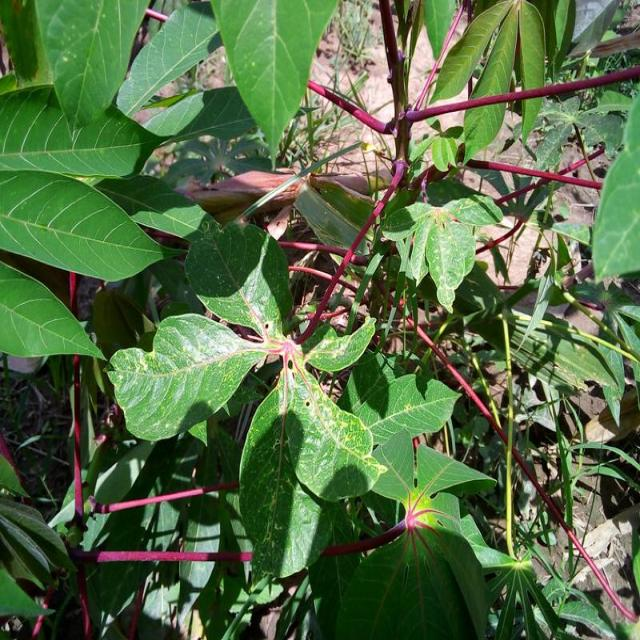cassava leaf: (210, 0, 339, 170), (105, 310, 264, 443)
